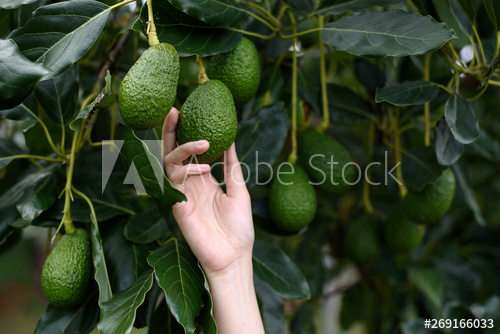unfit_avocado: (112, 35, 188, 128), (28, 218, 100, 312), (177, 70, 235, 170), (262, 157, 321, 238)
